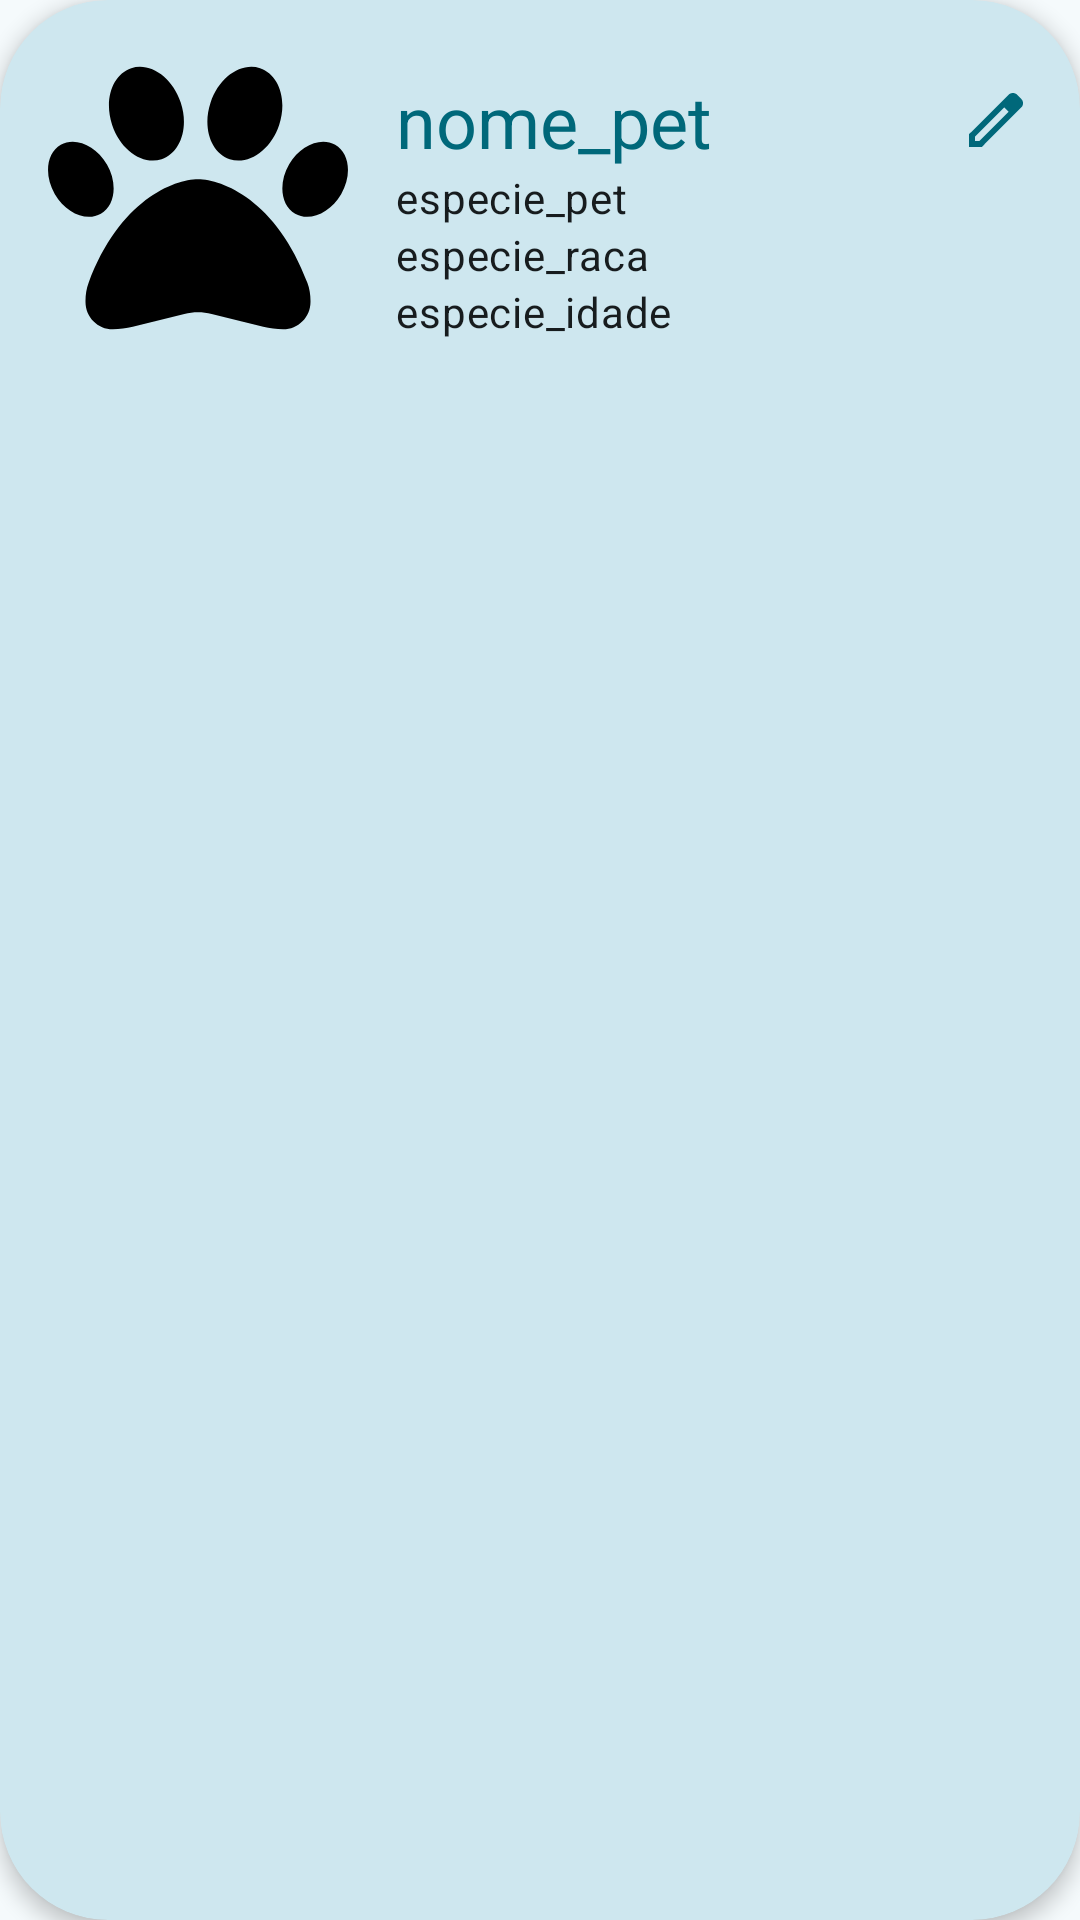

Locate icon controls on the screen. Image size 1080px×1920px, boxes as (x1, y1, x2, y2).
edit: (969, 93, 1023, 147)
paw: (48, 66, 348, 330)
